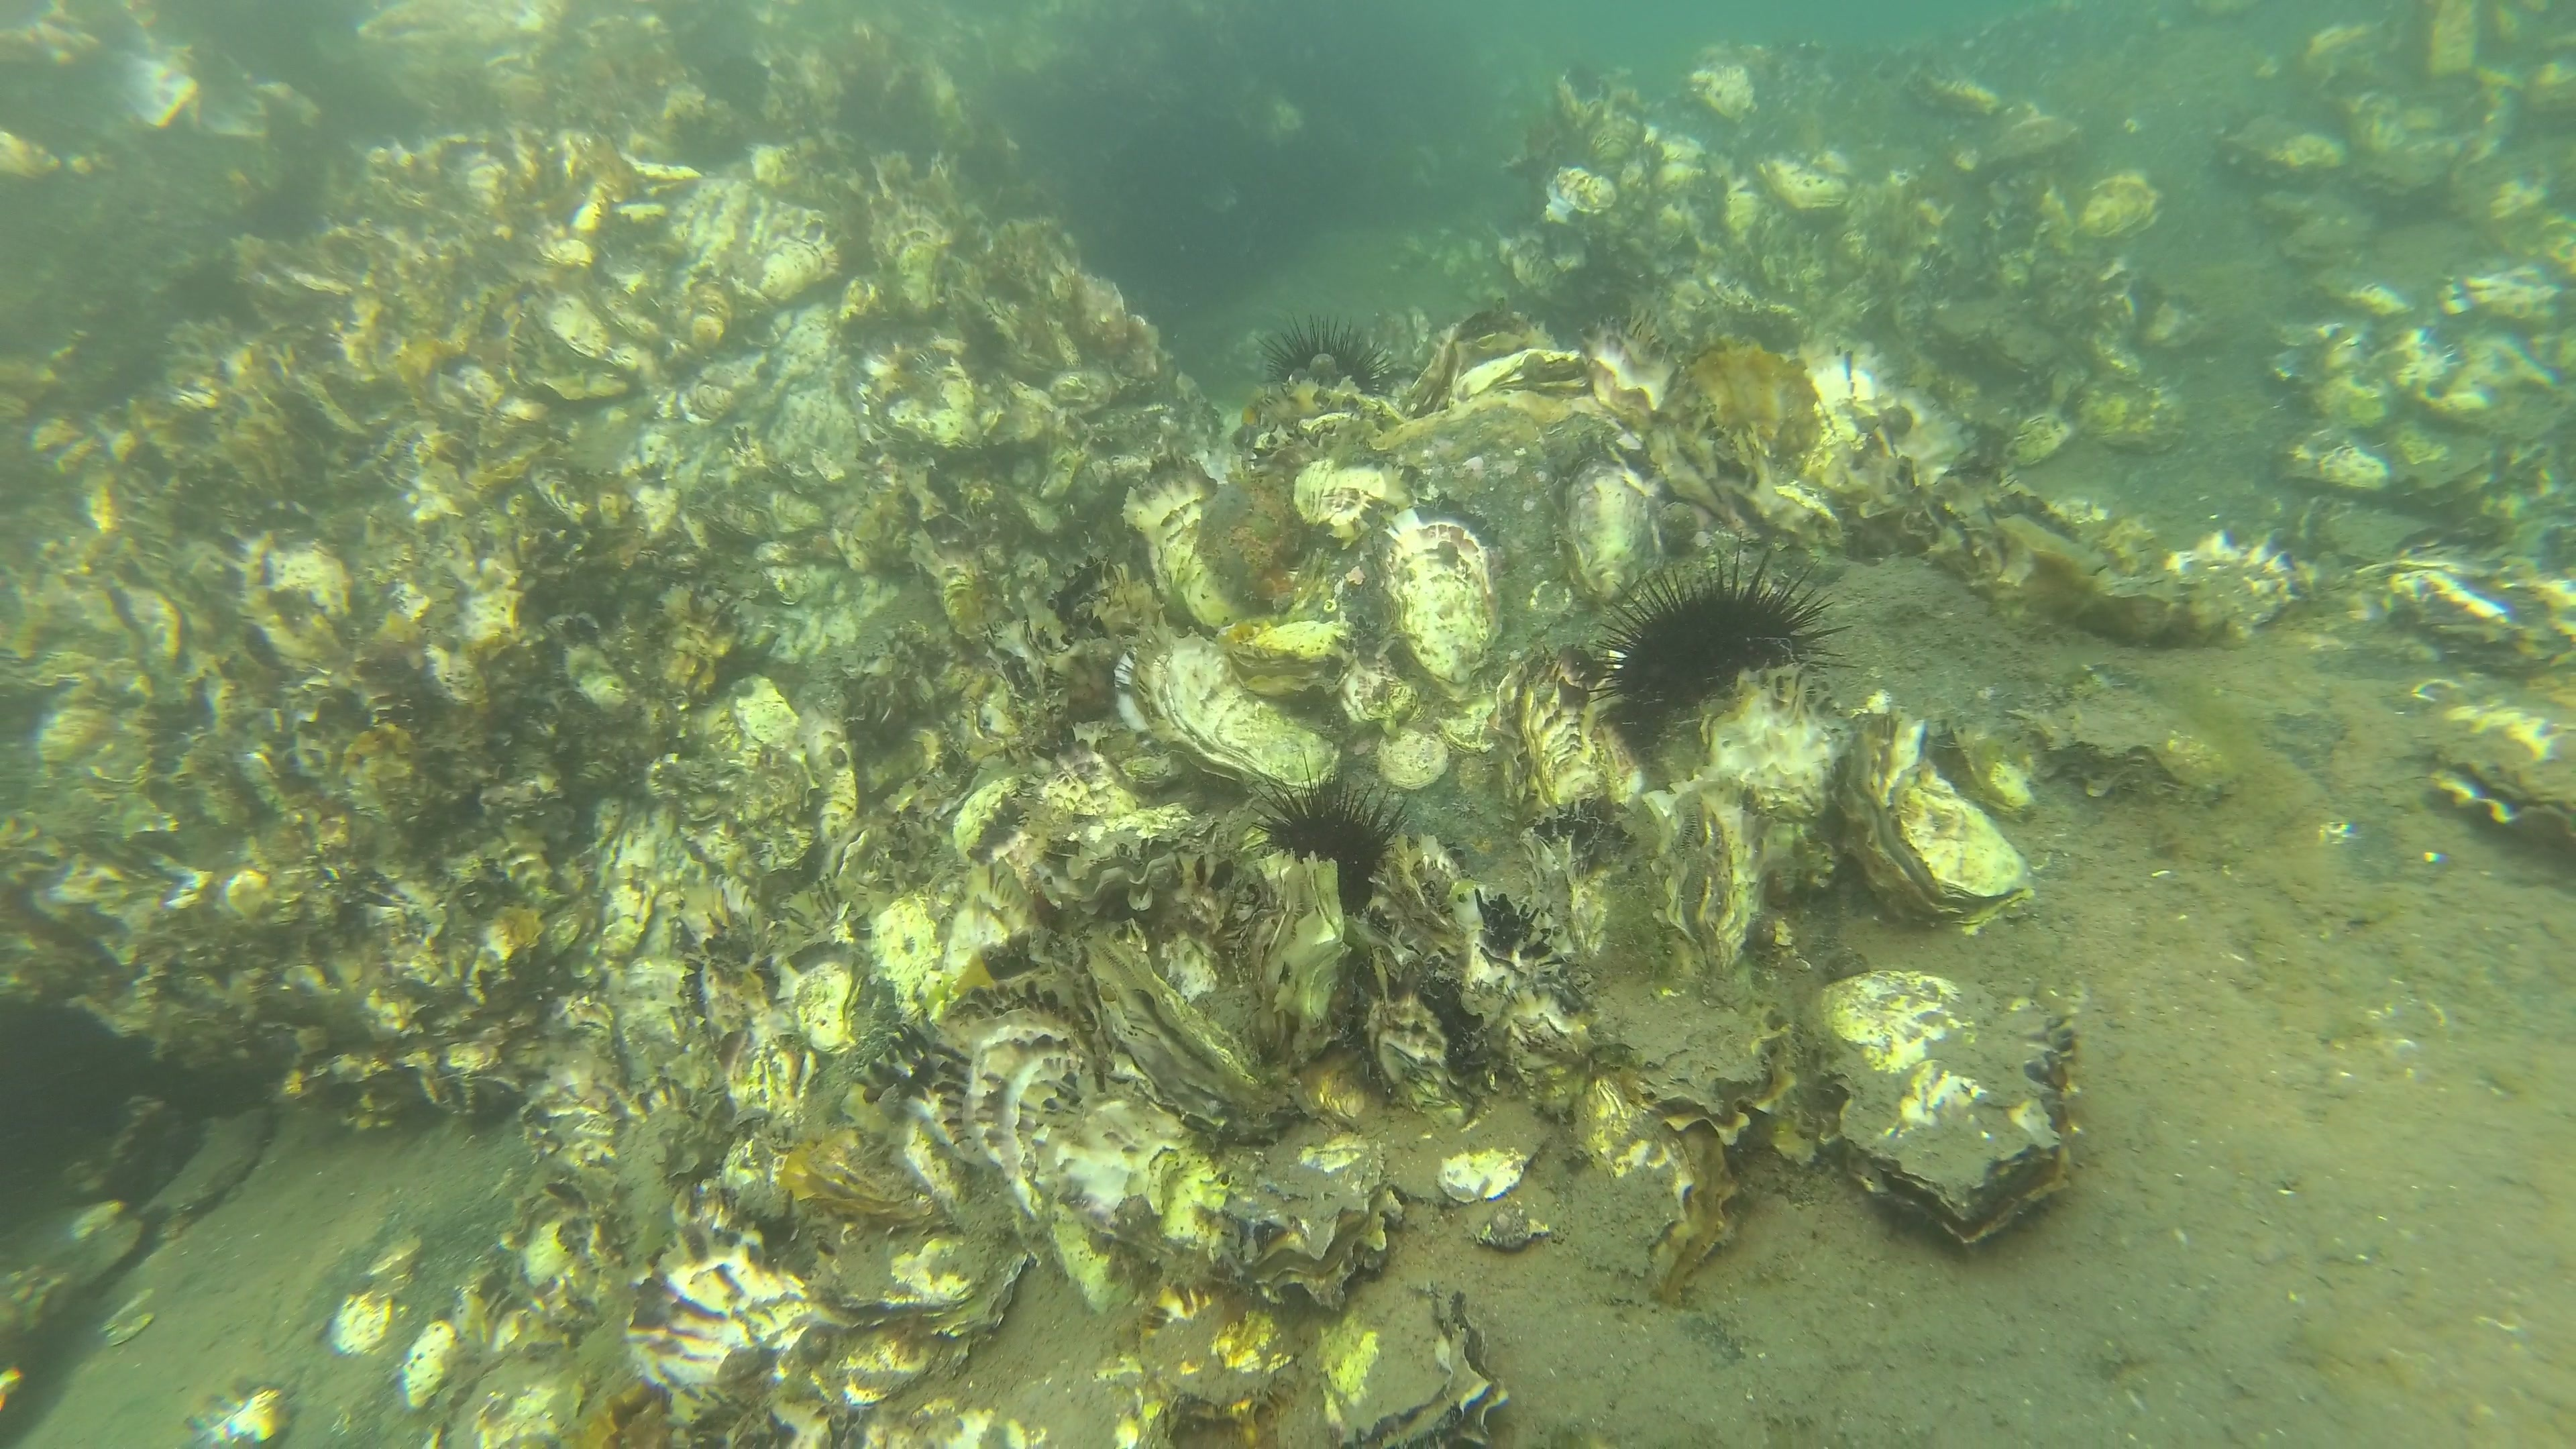echinus: (1594, 548, 1849, 720), (1251, 768, 1408, 913), (1261, 318, 1394, 396)
